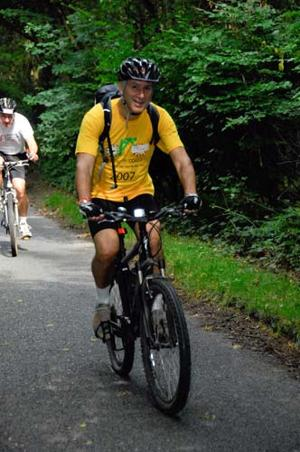person: (75, 55, 199, 352)
